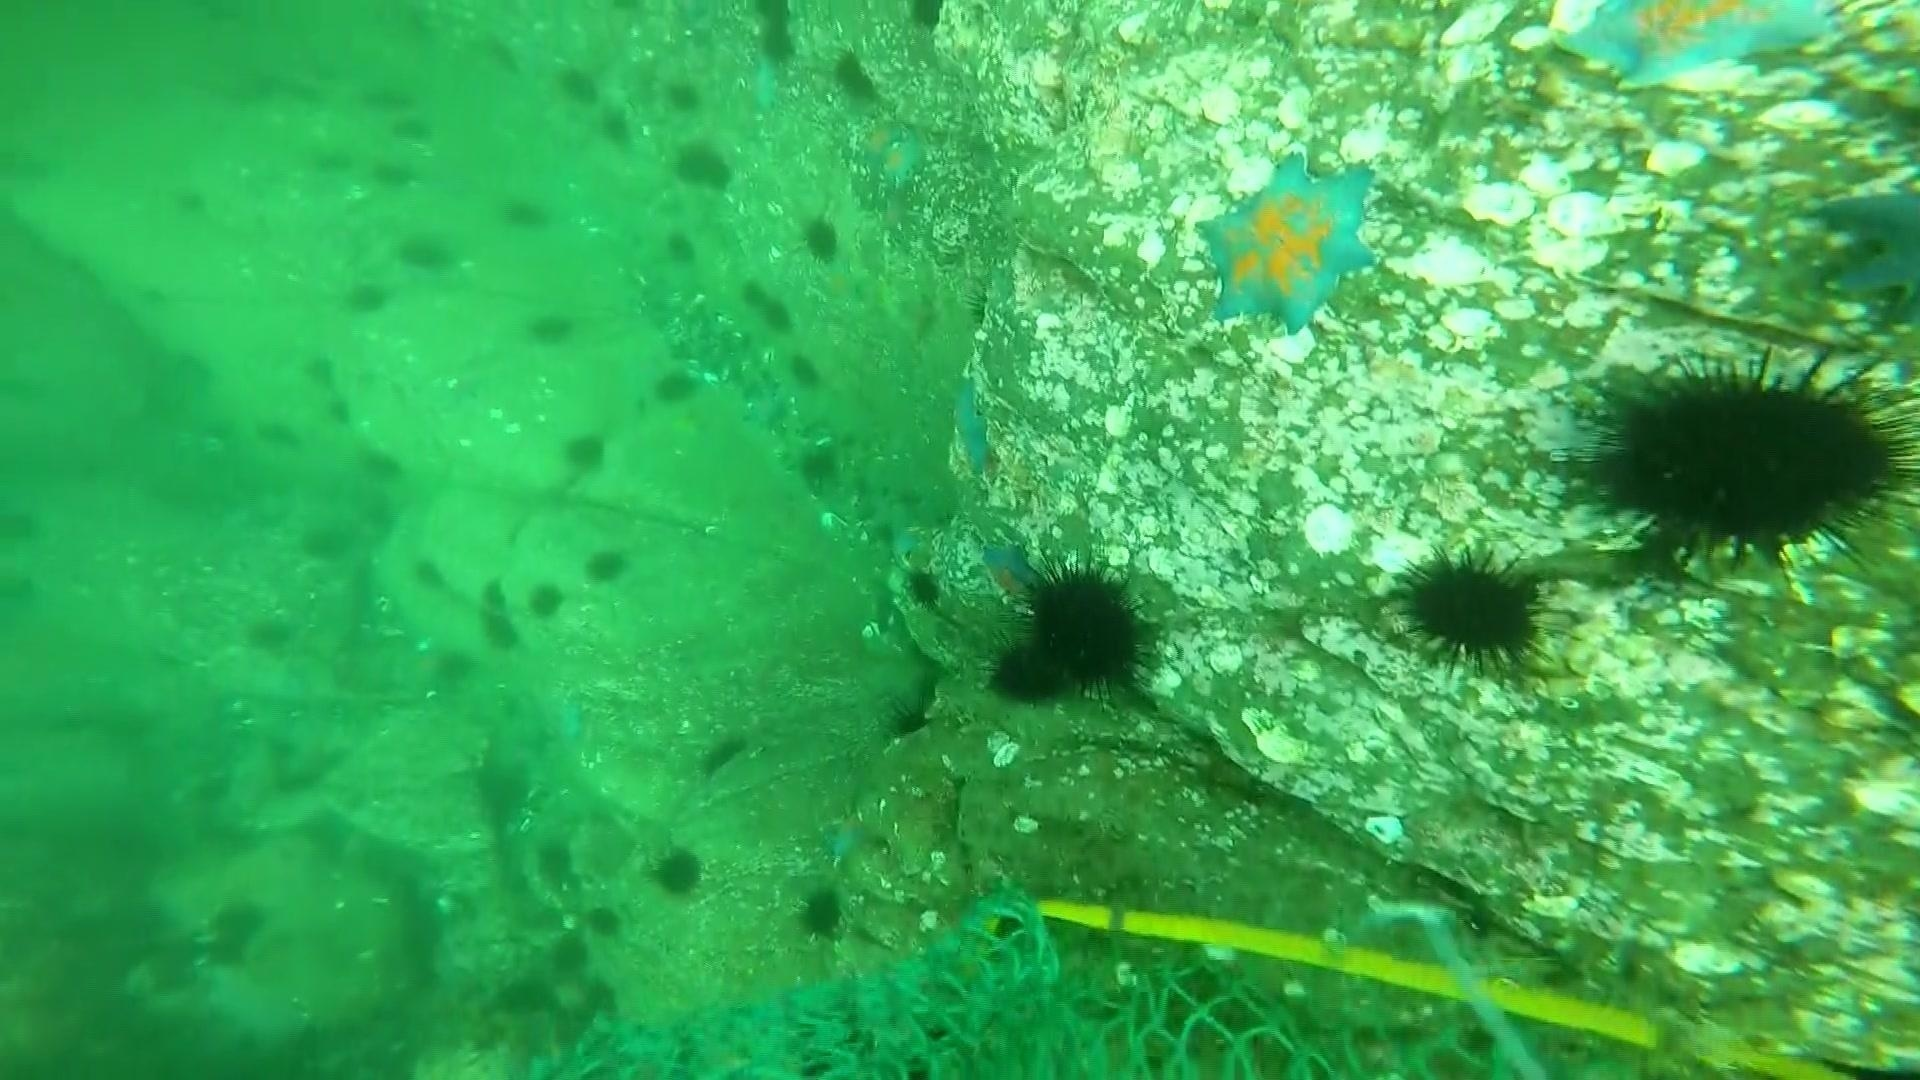echinus: (1575, 345, 1916, 572), (1393, 543, 1556, 676), (1015, 560, 1160, 698), (985, 633, 1076, 708), (667, 136, 737, 195), (645, 840, 709, 902), (880, 680, 942, 742), (198, 895, 268, 948), (793, 884, 851, 944), (827, 46, 884, 107), (393, 227, 458, 277), (531, 833, 582, 895), (426, 644, 480, 698), (556, 427, 612, 479), (796, 211, 845, 266), (650, 363, 705, 411), (545, 927, 593, 982), (551, 61, 604, 109), (247, 611, 301, 658), (524, 306, 579, 352), (340, 276, 394, 320), (498, 190, 553, 235), (582, 543, 633, 589), (901, 562, 947, 613), (200, 936, 258, 975), (477, 612, 524, 655), (302, 527, 353, 566), (525, 578, 568, 622), (659, 75, 705, 117), (596, 105, 638, 152), (582, 901, 626, 942), (902, 1, 952, 36), (257, 418, 306, 451), (802, 454, 848, 488), (367, 454, 415, 484), (760, 24, 799, 59), (372, 157, 419, 186), (761, 299, 796, 338), (748, 1, 796, 26), (411, 556, 448, 589), (663, 233, 698, 266), (299, 352, 332, 386), (1, 512, 34, 546), (787, 356, 823, 388), (367, 87, 411, 112), (740, 280, 770, 309), (400, 120, 440, 141), (320, 153, 360, 174), (324, 396, 352, 423), (182, 191, 211, 218), (483, 578, 506, 609), (359, 498, 389, 520)
scallop: (1400, 237, 1491, 295), (1458, 179, 1536, 232), (1543, 191, 1611, 244), (1299, 504, 1360, 560)
starfish: (1195, 152, 1383, 338), (1552, 1, 1837, 94), (1803, 179, 1919, 313), (943, 375, 1004, 487), (816, 804, 891, 869), (975, 533, 1044, 601), (735, 49, 790, 120), (864, 124, 903, 171), (884, 138, 920, 181)
